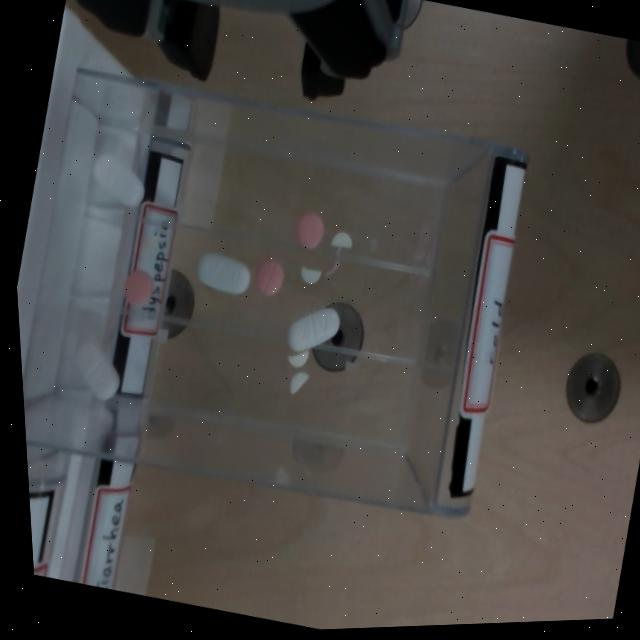amoxicle_tab: (93, 153, 144, 206), (287, 307, 339, 353), (78, 343, 119, 401), (197, 253, 251, 295)
panstar_tab: (256, 260, 284, 296), (297, 212, 324, 249), (125, 270, 152, 306)
sudafed_tab: (290, 371, 309, 395), (288, 350, 309, 368), (301, 267, 321, 284), (332, 232, 352, 249)
